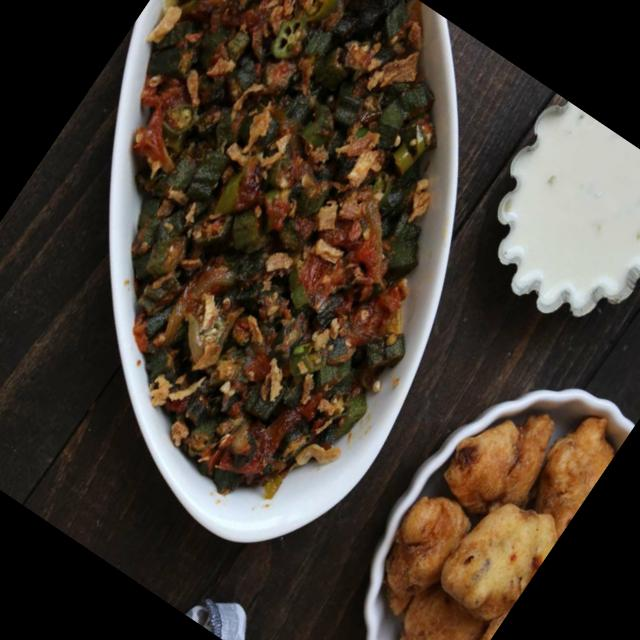BhindiMasala: (0, 0, 576, 538)
